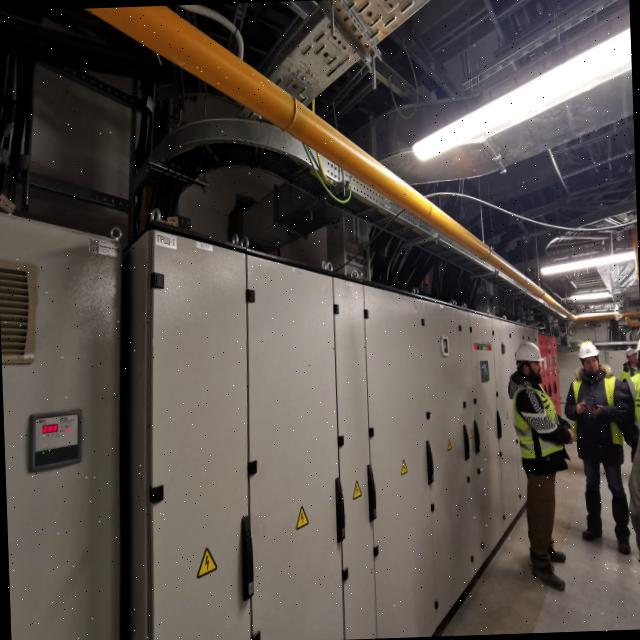Helmet: (512, 338, 547, 384), (576, 337, 604, 379), (621, 346, 640, 370)
